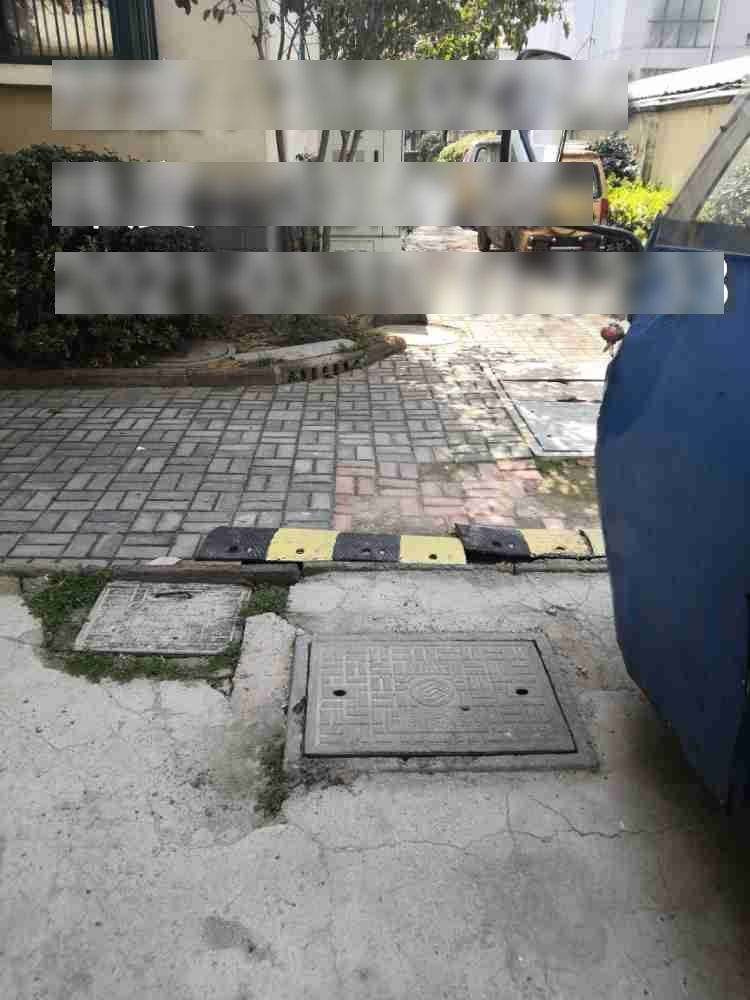good: (274, 634, 599, 771), (69, 577, 252, 656), (480, 353, 610, 458)
